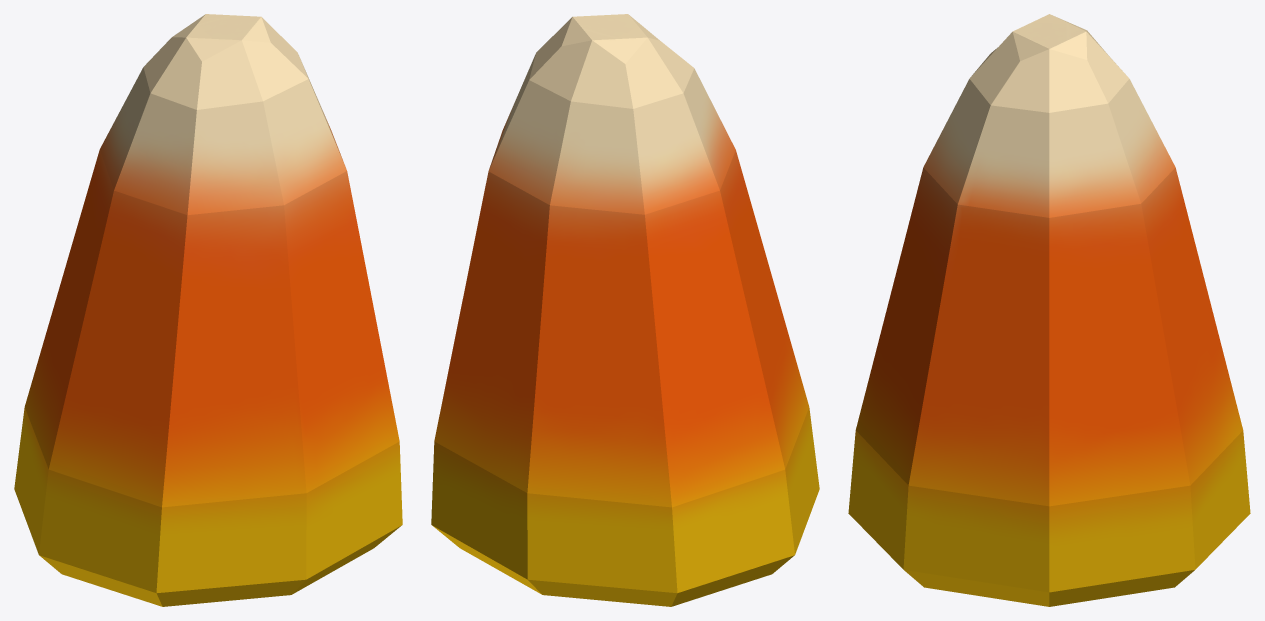
File: pumpkincandy.obj
3 views of the same model, side by side, from view 1: azimuth 30°, elevation 25°; view 2: azimuth 150°, elevation 25°; view 3: azimuth 270°, elevation 25° (orthographic). The views are drawn at different scales.
Parts seen in each view (by area): view 1: Cube; view 2: Cube; view 3: Cube.
Boxes of the visible parts, <box> form: Cube: <box>14,14,402,606</box>; Cube: <box>431,14,819,606</box>; Cube: <box>848,14,1250,606</box>.
Bounding box in the file's own units: 0.4942 × 0.7087 × 0.4945.
